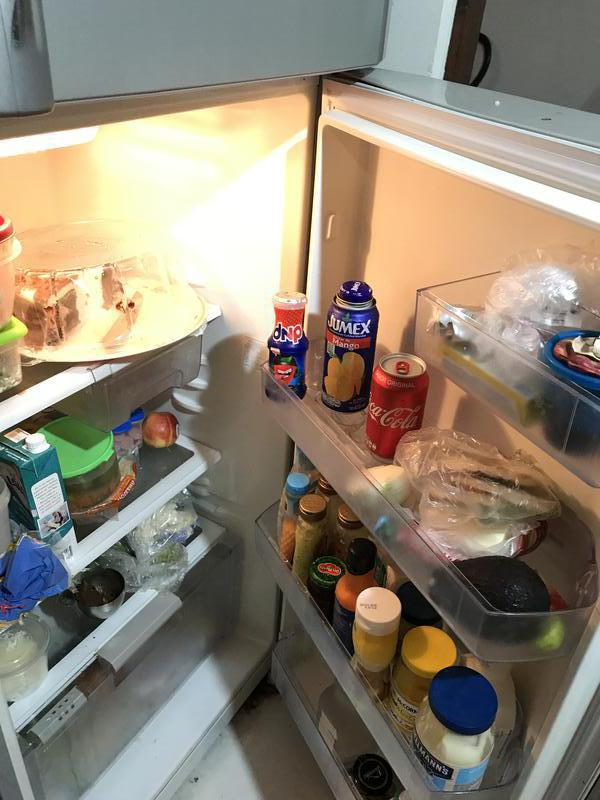coca_cola: (371, 354, 431, 459)
danup: (269, 288, 310, 402)
jugo_jumex: (321, 279, 381, 413)
